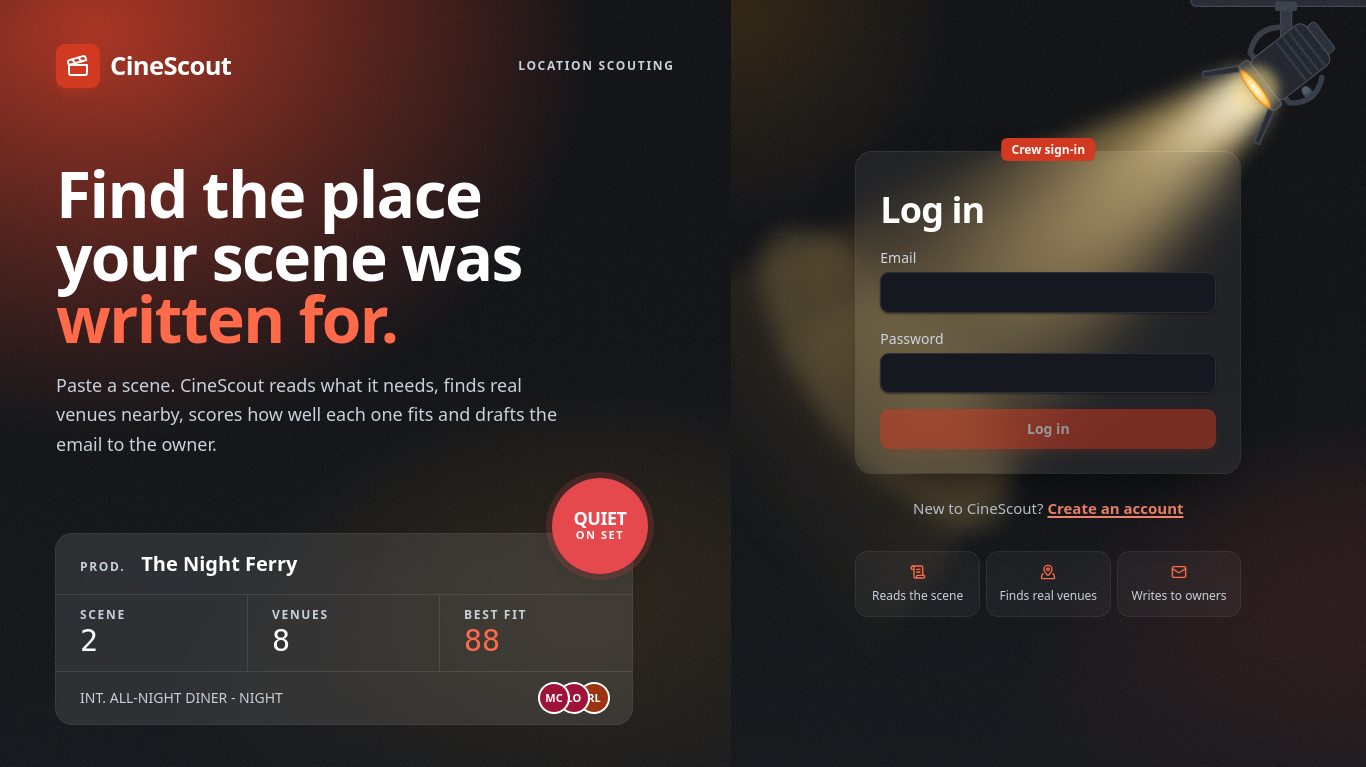
the venue list controls › switch to a compact list, remembered in this browser, with the same quick actions
Type "ada@example.com" into the field labelled "Email" at (1048, 293), box [880,272,1216,313]
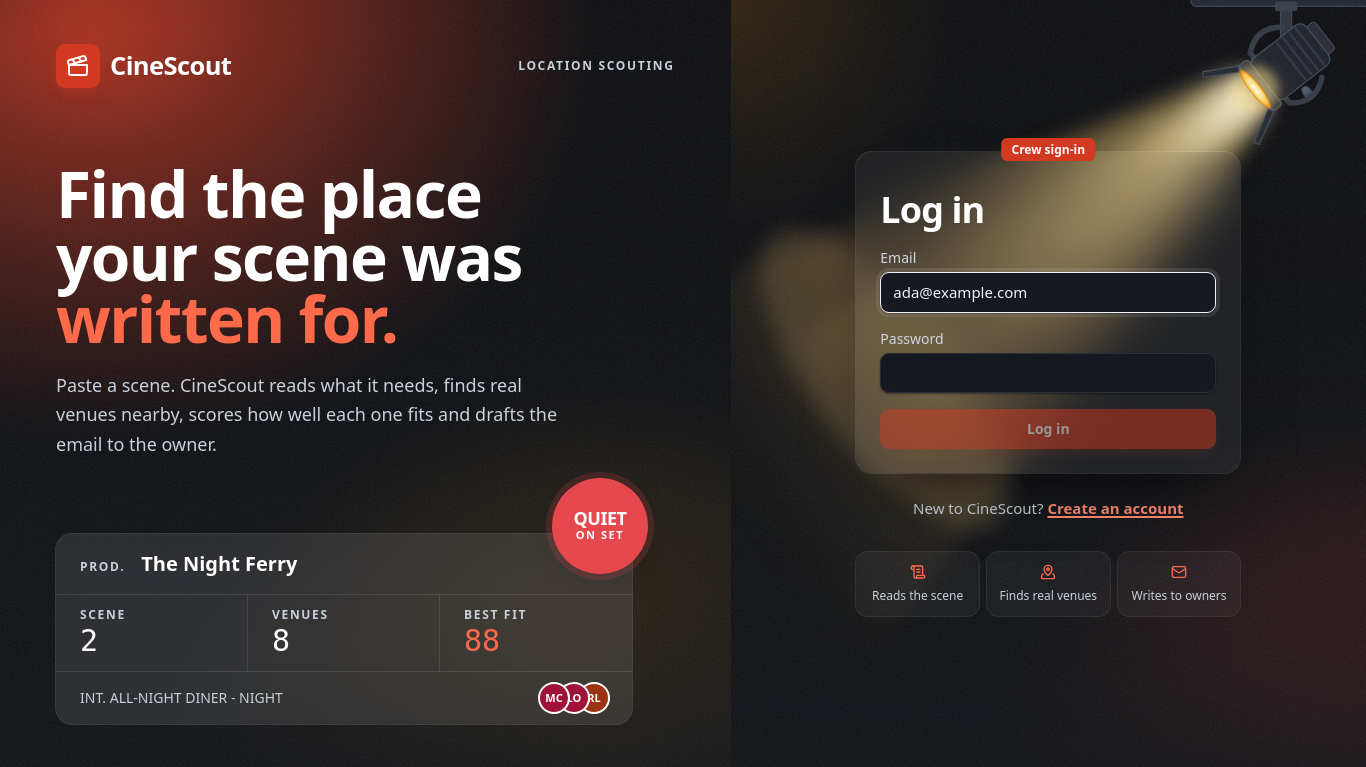
Type "a-long-password" into the password field labelled "Password" at (1048, 373), box [880,353,1216,393]
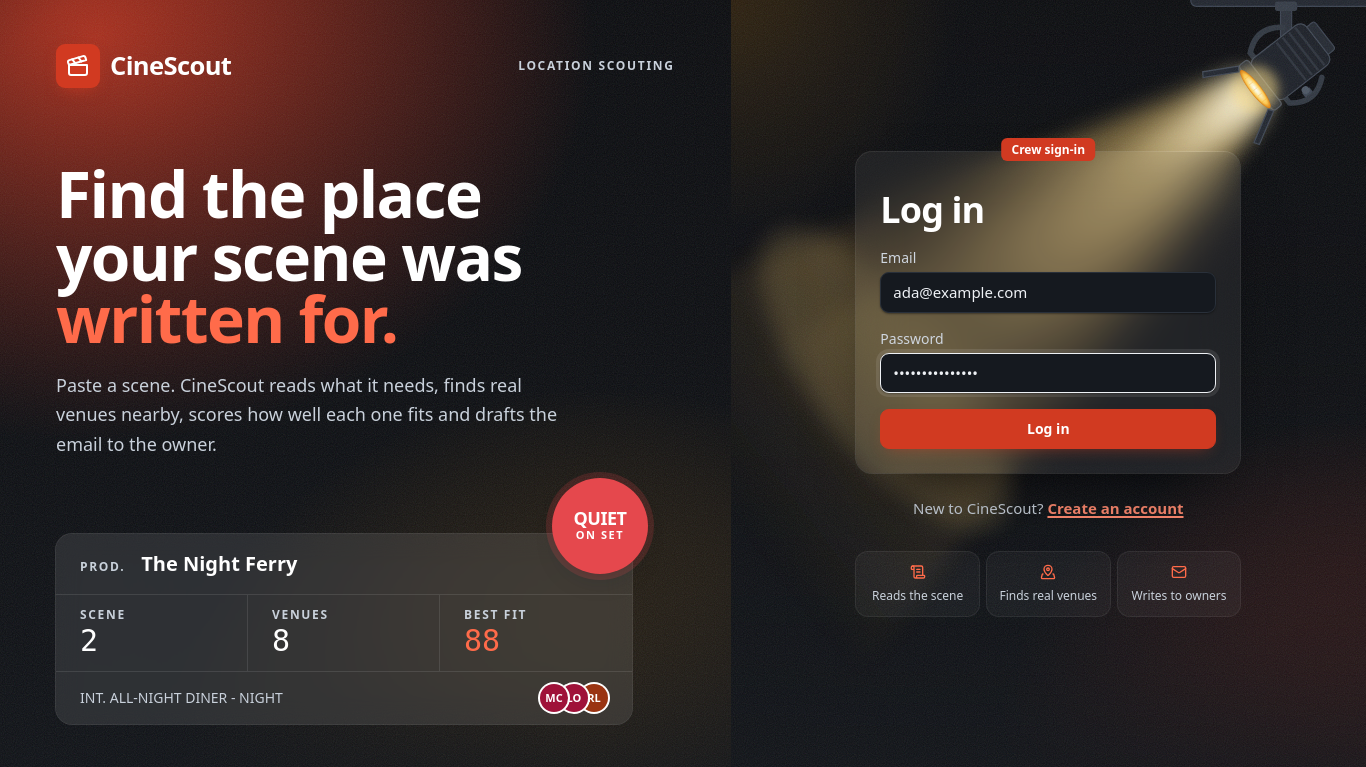
Click the button "Log in" at (1048, 429), box [880,409,1216,449]
(page scrolled)
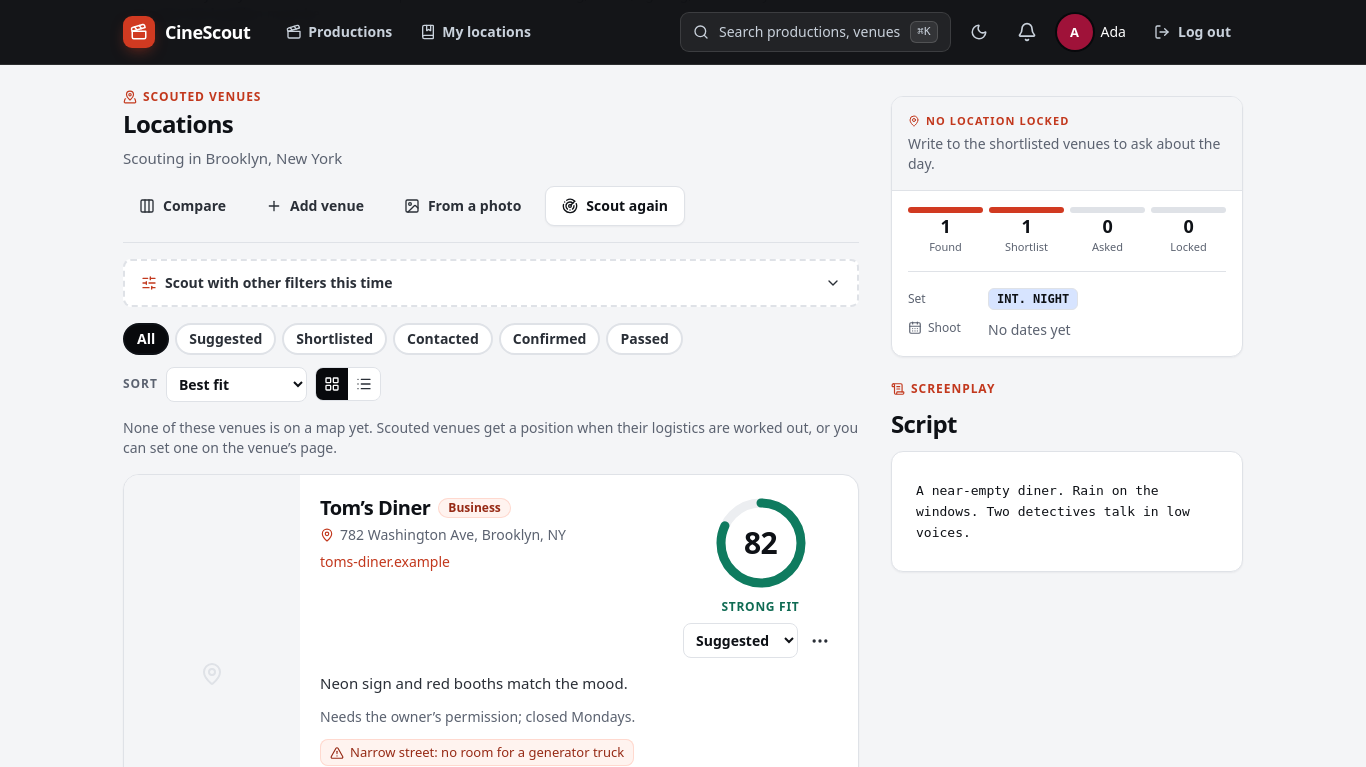
Click the button named "Compact list" at (364, 384), box [348,368,380,400]
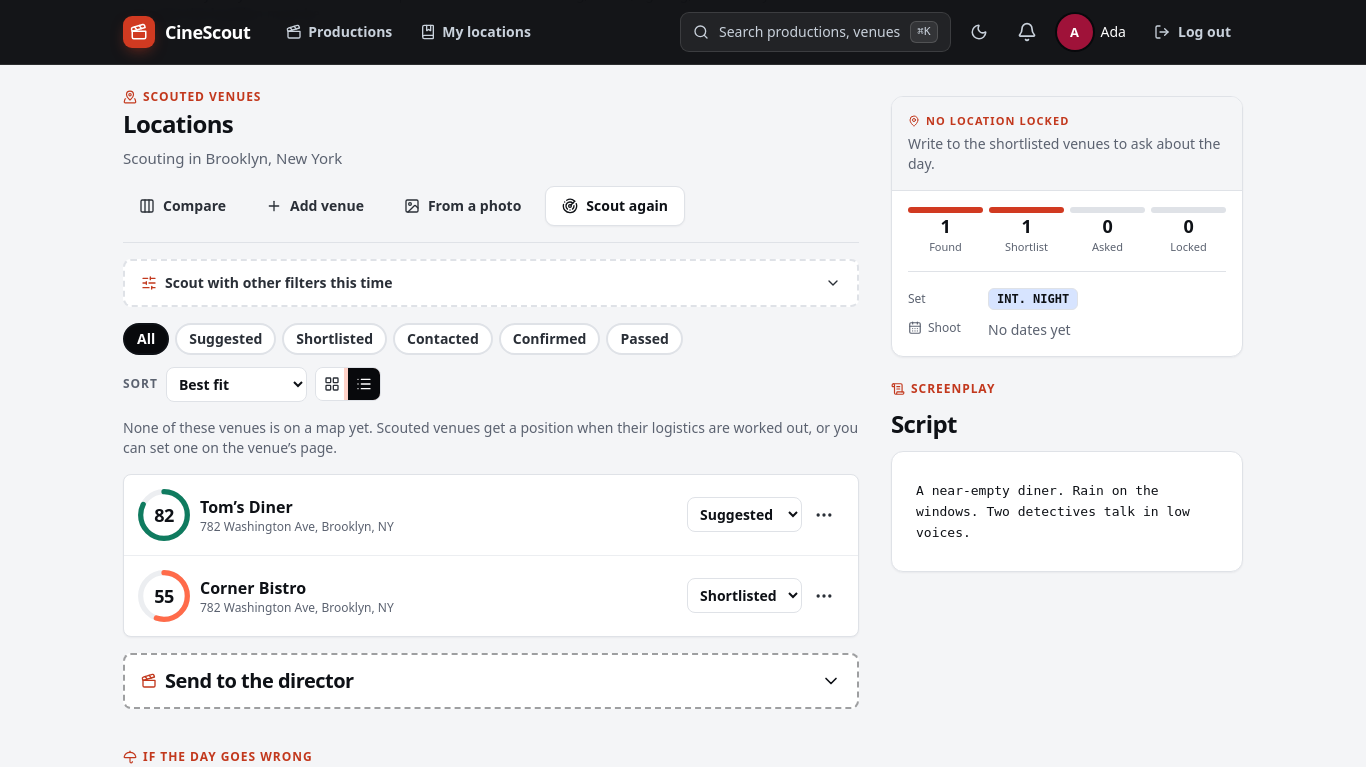
Check: the button named "Quick actions for Corner Bistro" is shown, box [806,578,842,614]
Check: the dropdown named "Status of Corner Bistro" in the row of "Corner Bistro" shows "Shortlisted", box [687,578,802,613]
